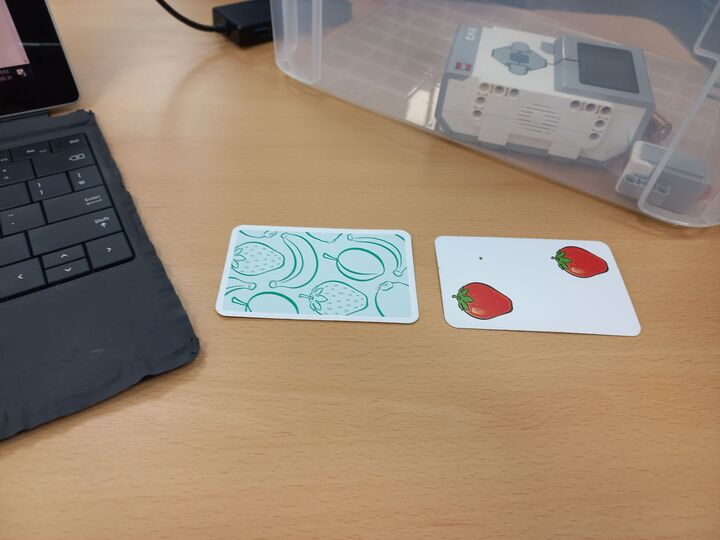strawberry2: (433, 233, 644, 340)
